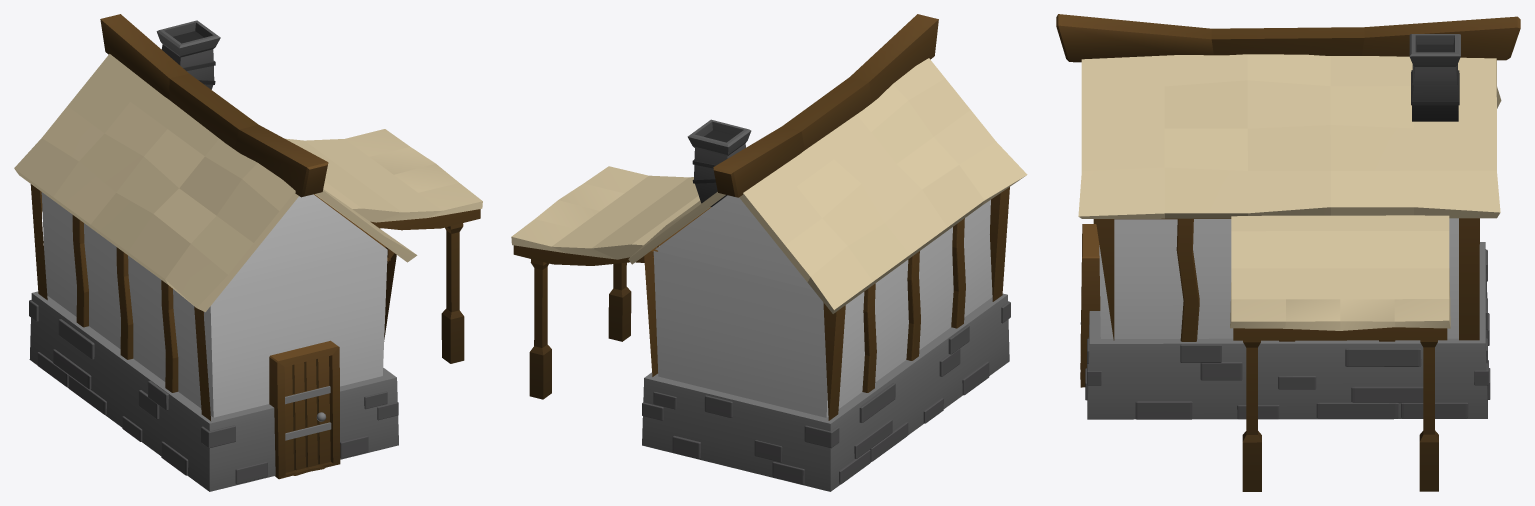
Rendered from farmhouse.glb.
3 renders of one model, left to right at view 1: azimuth 30°, elevation 25°; view 2: azimuth 150°, elevation 25°; view 3: azimuth 270°, elevation 25°, orthographic. The views are drawn at different scales.
Visible parts, largest first — view 1: walls, roof; view 2: walls, roof; view 3: walls, roof.
Part boxes in pixels (x1,y1,x2,y2): walls: [29, 129, 482, 491]; roof: [14, 14, 417, 312]; walls: [511, 166, 1010, 491]; roof: [628, 14, 1027, 313]; walls: [1080, 215, 1490, 491]; roof: [1056, 14, 1520, 218].
Bounding box in the file's own units: 6.87 × 5.8 × 6.95.
9 materials, 8 textured.
